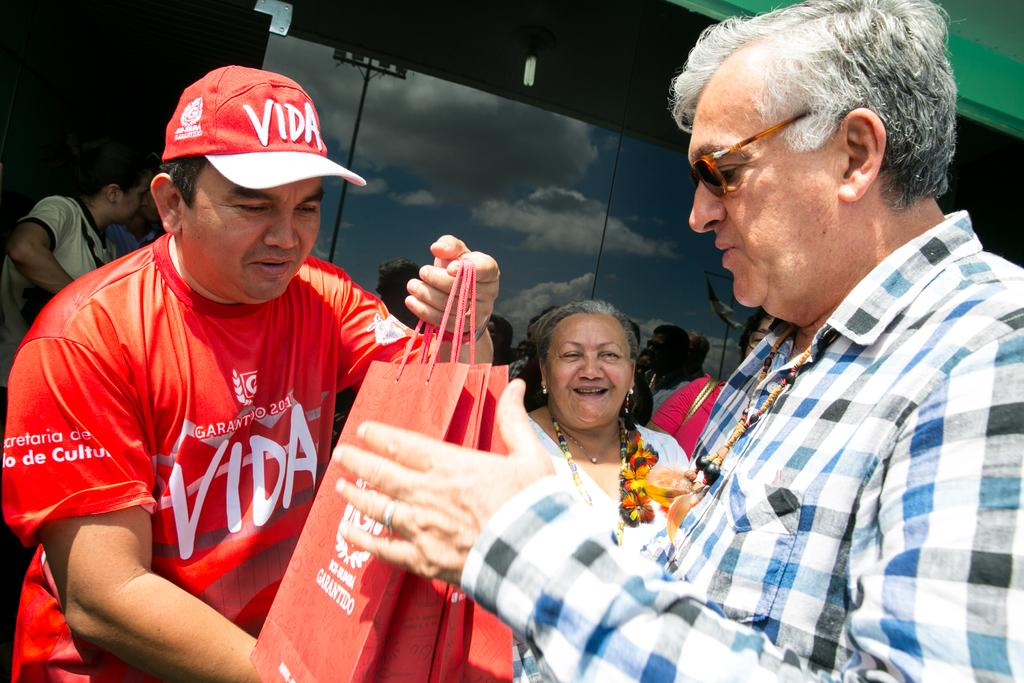Hat: (164, 63, 364, 193)
